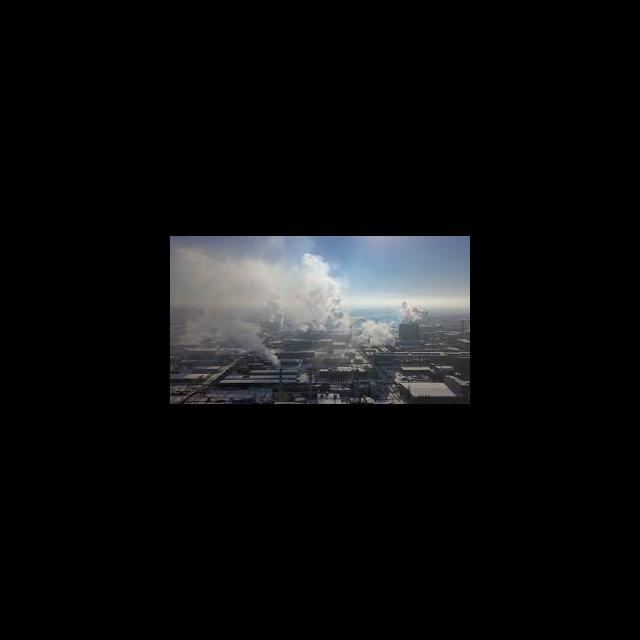Smoke: (178, 256, 281, 346), (285, 253, 351, 336), (227, 322, 278, 367), (364, 318, 394, 348)
